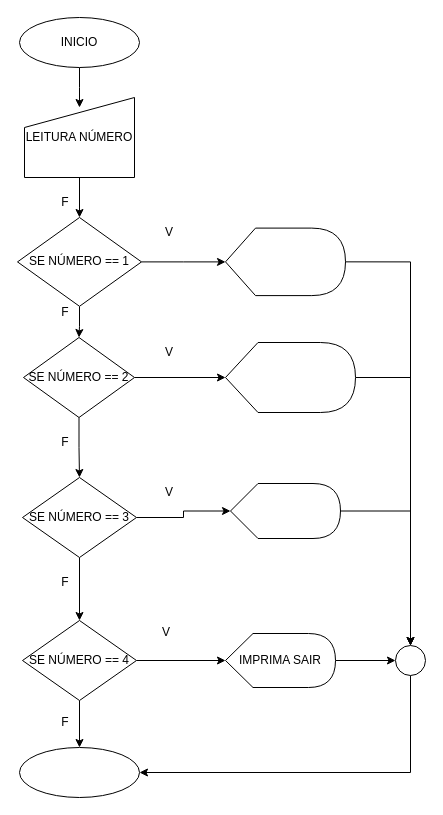
Some shapes in this 443 by 815 pixel diagram are drawn without their labels. The centre of each missing label's shape, as x and y in pixels:
"FIM" goes at pixel 79 772.
"IMPRIMA EXTRATO" goes at pixel 290 377.
"IMPRIMA SALDO" goes at pixel 285 261.
"IMPRIMA SAQUE" goes at pixel 285 510.
